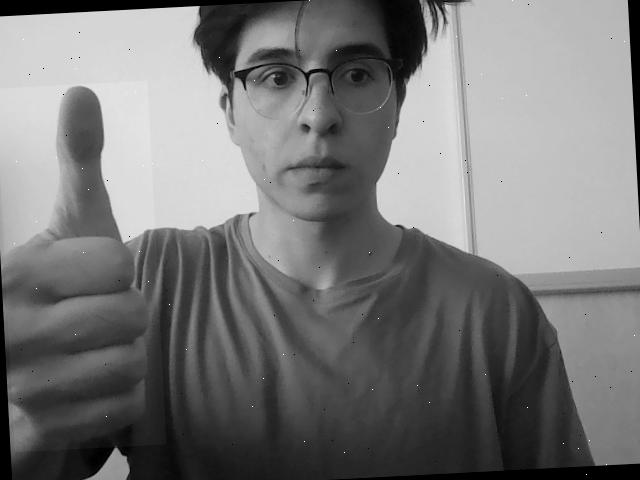good: (0, 81, 166, 452)
